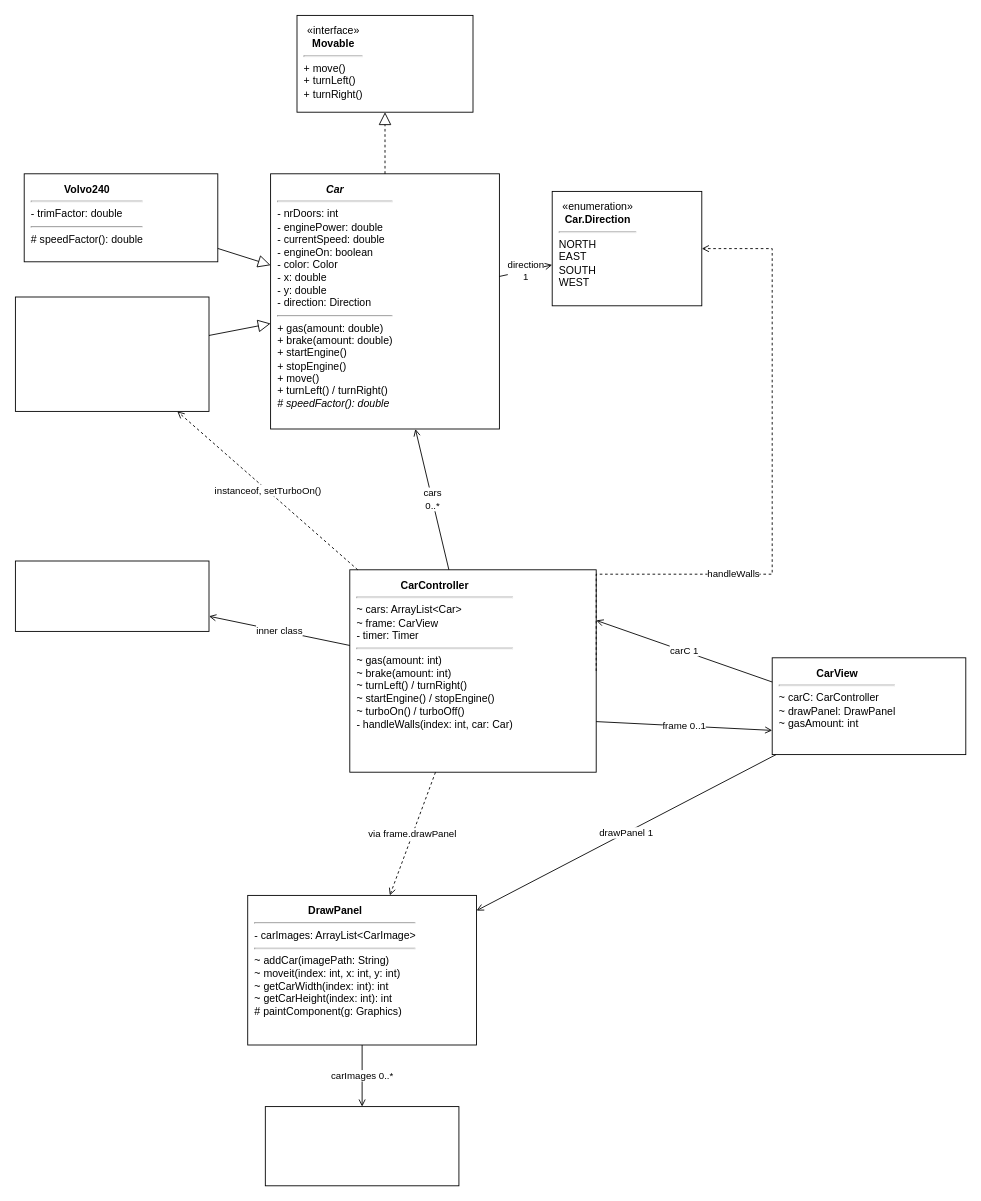
Image size: 981x1201. Some labels were removed from this diagram. Each missing label, with the centre of its shape:
"CarController.TimerListener + actionPerformed(e: ActionEvent)" belongs at (x=112, y=595).
"DrawPanel.CarImage ~ image: BufferedImage ~ position: Point" belongs at (x=361, y=1146).
"Saab95 - turboOn: boolean + setTurboOn() + setTurboOff() # speedFactor(): double" belongs at (x=112, y=353).
